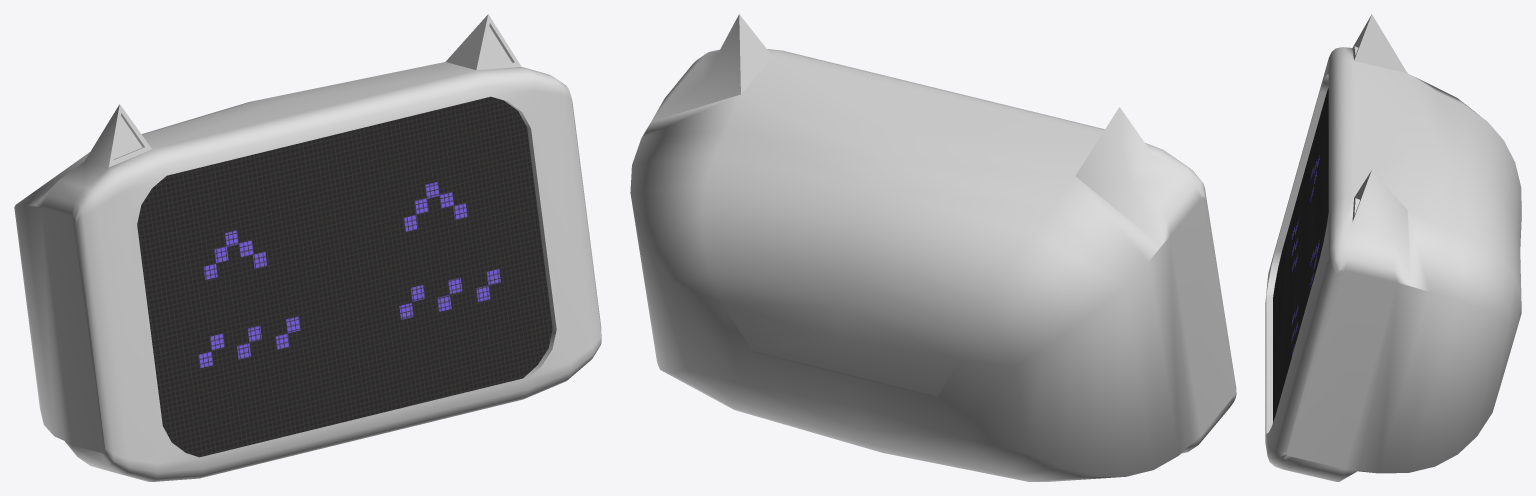
3 renders of one model, left to right at view 1: azimuth 30°, elevation 25°; view 2: azimuth 150°, elevation 25°; view 3: azimuth 270°, elevation 25°, orthographic. The views are drawn at different scales.
Parts seen in each view (by area): view 1: Robo; view 2: Robo; view 3: Robo.
Boxes of the visible parts, bbox=[...] form: Robo: bbox=[14, 14, 601, 481]; Robo: bbox=[630, 14, 1236, 481]; Robo: bbox=[1265, 14, 1521, 481].
Size of the model in its own units: 35.58 by 24.89 by 18.39.
2 materials, 1 textured.
